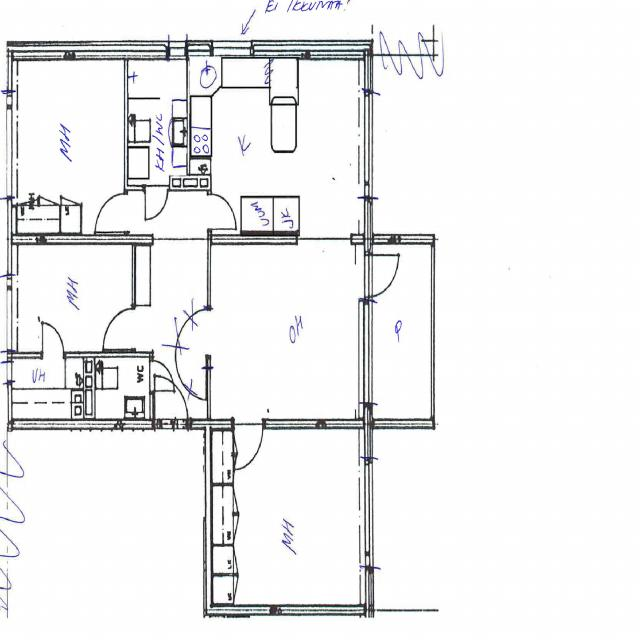door: (154, 373, 188, 429), (364, 255, 402, 297), (234, 420, 262, 468), (103, 308, 134, 349), (98, 194, 128, 232), (207, 194, 235, 228), (145, 186, 168, 222), (150, 361, 175, 392), (42, 323, 63, 357)
